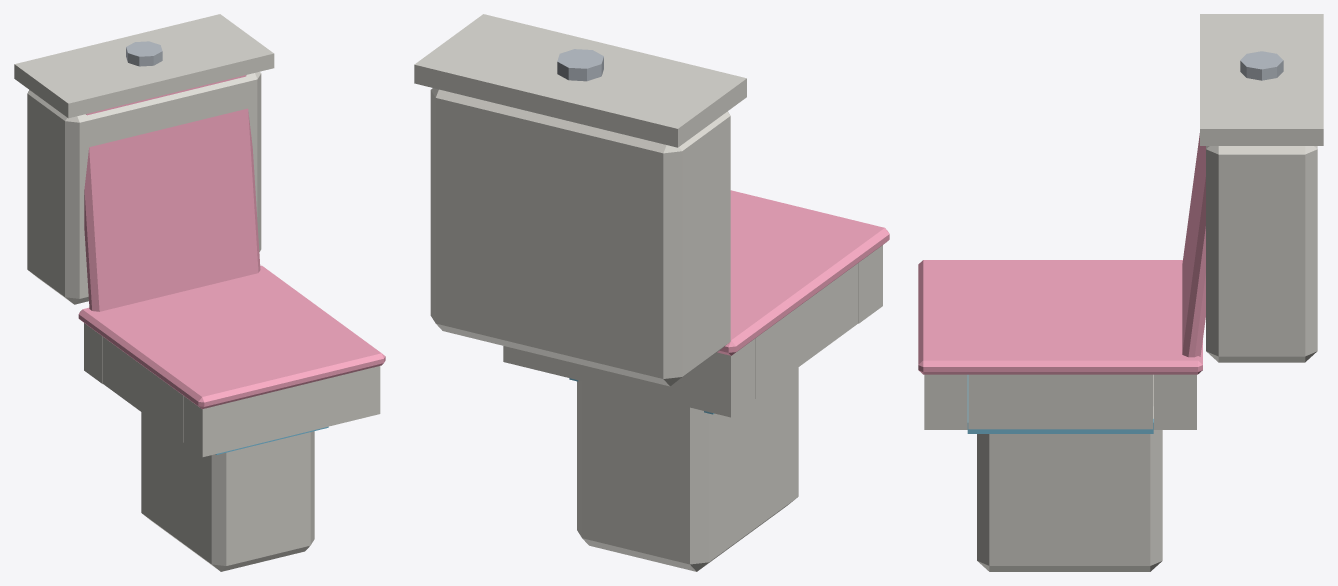
The model's file is toilet.fbx.
3 views of the same model, side by side, from view 1: azimuth 30°, elevation 25°; view 2: azimuth 150°, elevation 25°; view 3: azimuth 270°, elevation 25° (orthographic). The views are drawn at different scales.
Visible parts, largest first — view 1: toilet, MECH_flush; view 2: toilet, MECH_flush; view 3: toilet, MECH_flush.
Boxes of the visible parts, left/top/right/bottom form: toilet: left=14, top=14, right=385, bottom=571; MECH_flush: left=126, top=41, right=162, bottom=66; toilet: left=414, top=14, right=889, bottom=571; MECH_flush: left=557, top=49, right=603, bottom=81; toilet: left=918, top=14, right=1323, bottom=571; MECH_flush: left=1240, top=51, right=1283, bottom=80.
Bounding box in the file's own units: 1.76 × 3.48 × 2.62.
